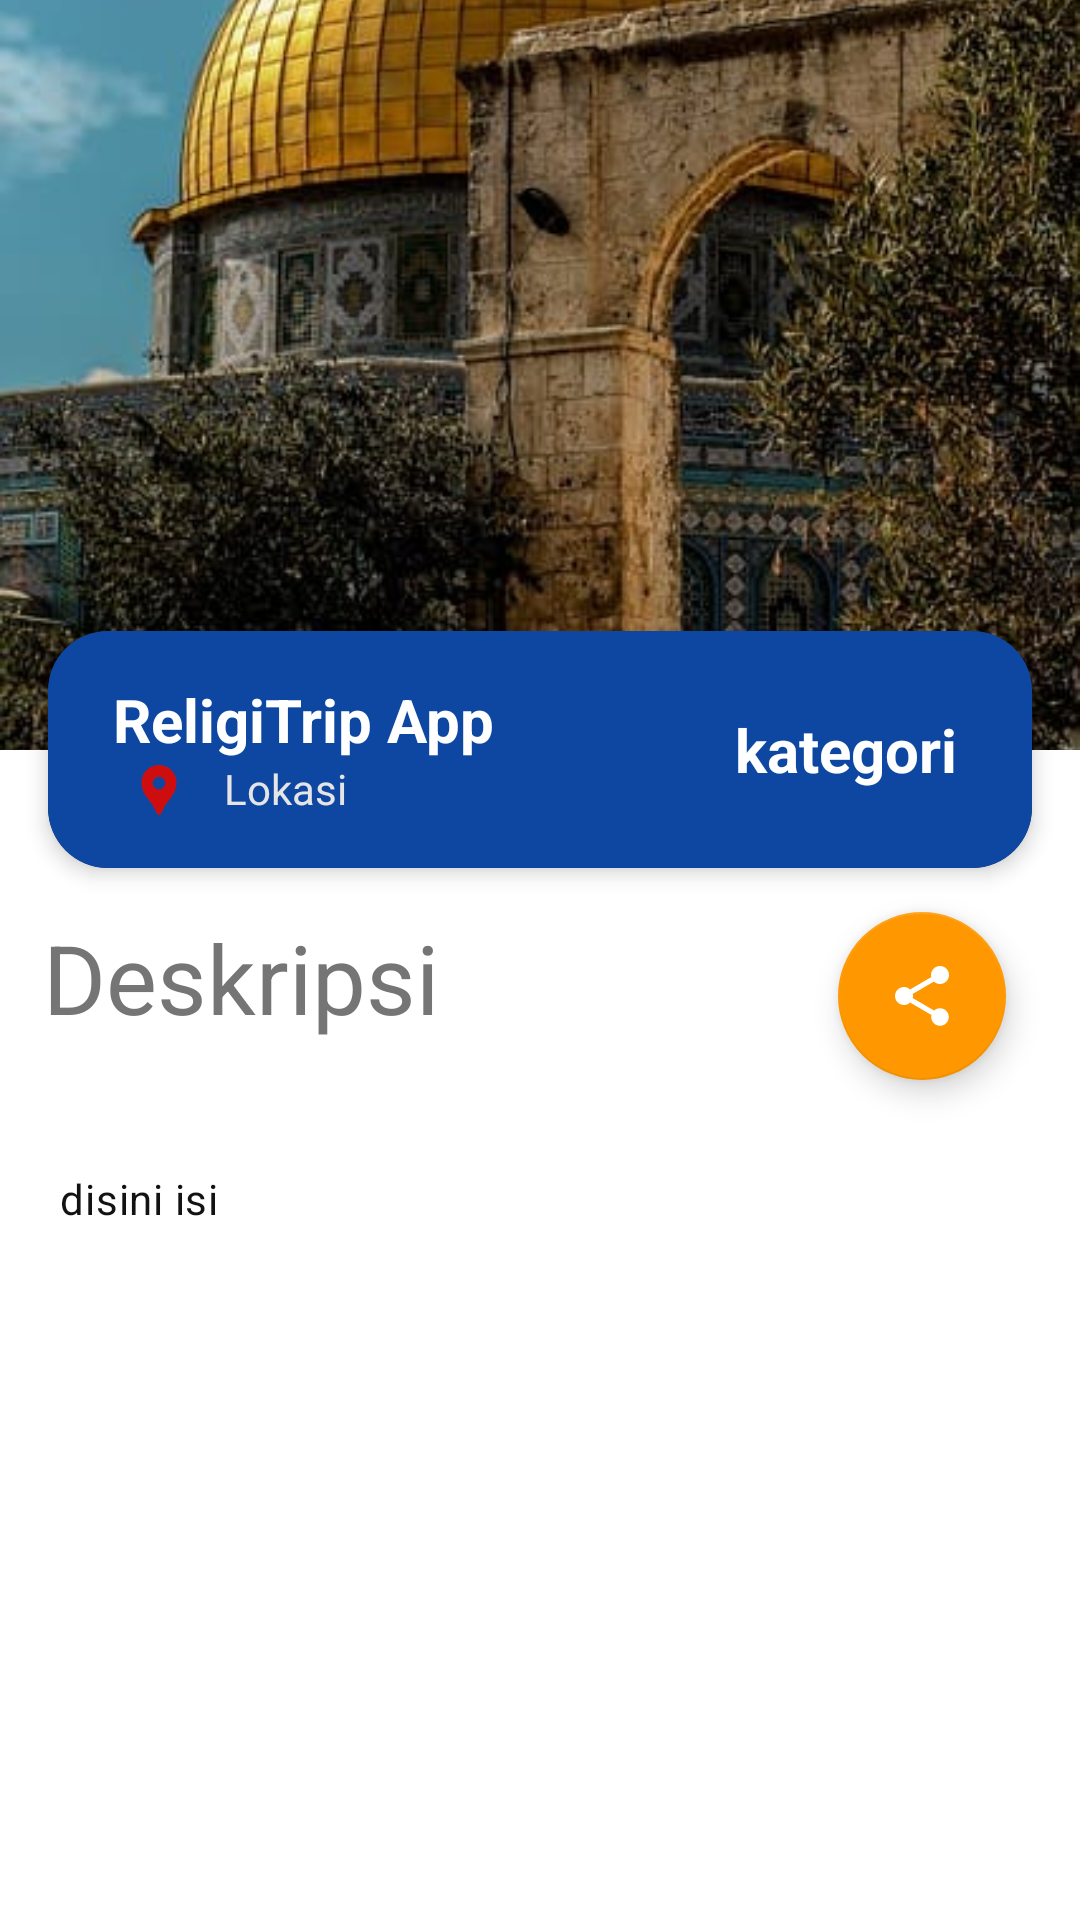

Point at icon controls on the screen. Image size 1080*1920, points as [x,y].
location pin: [159,790]
share: [922,996]
